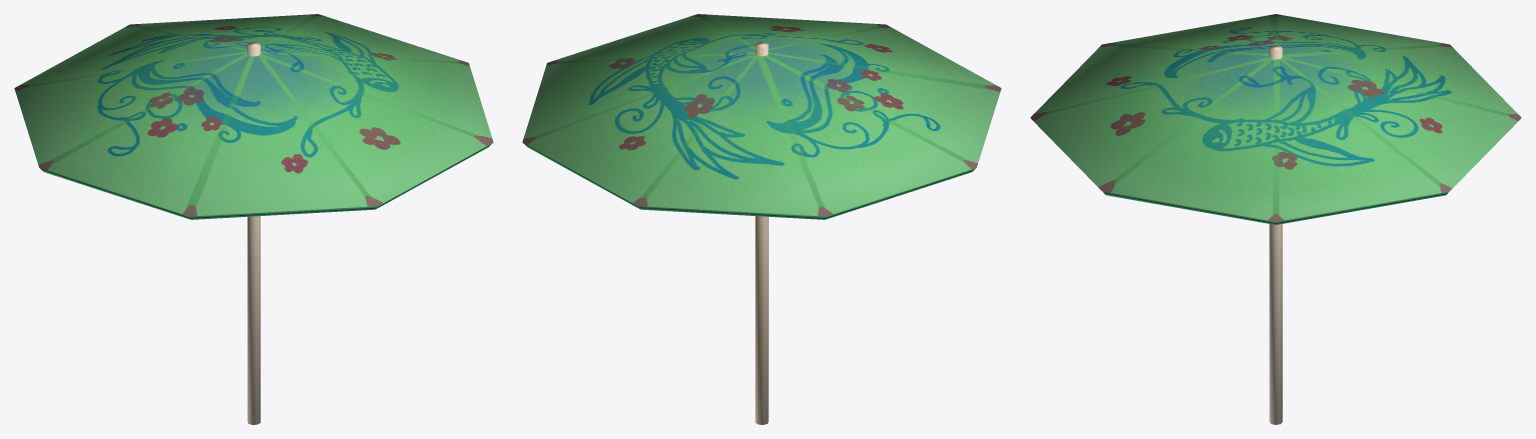
Rendered from tiramysu-umbrella.glb.
The picture shows the model from 3 angles, left to right: view 1: azimuth 30°, elevation 25°; view 2: azimuth 150°, elevation 25°; view 3: azimuth 270°, elevation 25°; orthographic projection.
Visible parts, largest first — view 1: Cone, Cylinder; view 2: Cone, Cylinder; view 3: Cone, Cylinder.
Boxes of the visible parts, x1,y1,x2,y2 form: Cone: [14, 14, 493, 219]; Cylinder: [247, 42, 260, 424]; Cone: [522, 14, 1001, 219]; Cylinder: [755, 42, 768, 424]; Cone: [1030, 14, 1521, 224]; Cylinder: [1269, 45, 1282, 424].
Bounding box in the file's own units: 2.38 × 2 × 2.38.
Materials: 1 (1 with a texture image).
